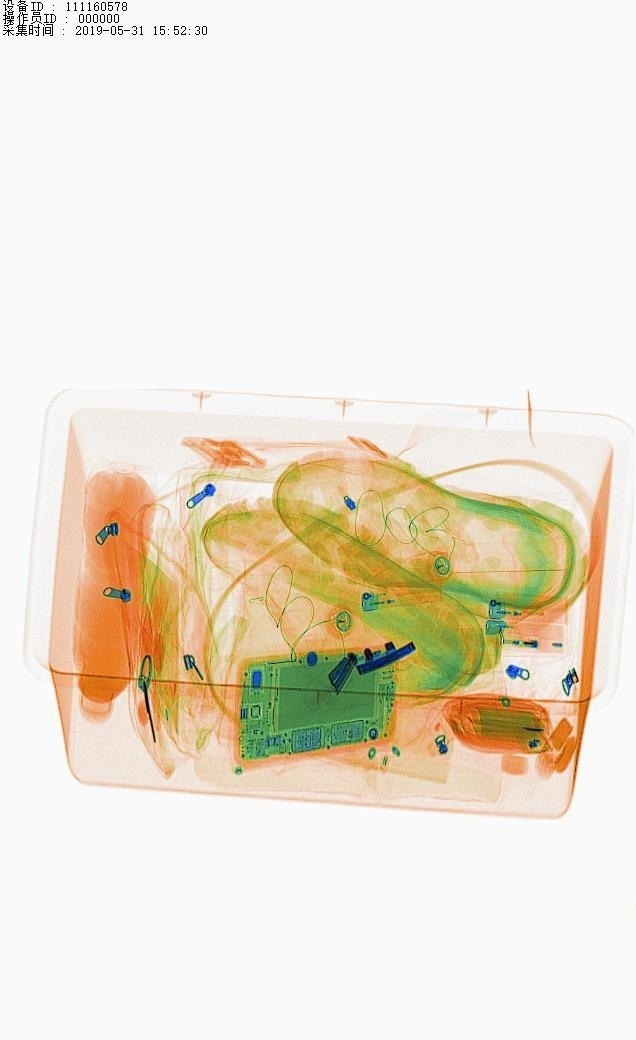NonmetallicFire: (463, 582, 579, 665), (349, 572, 457, 623)
